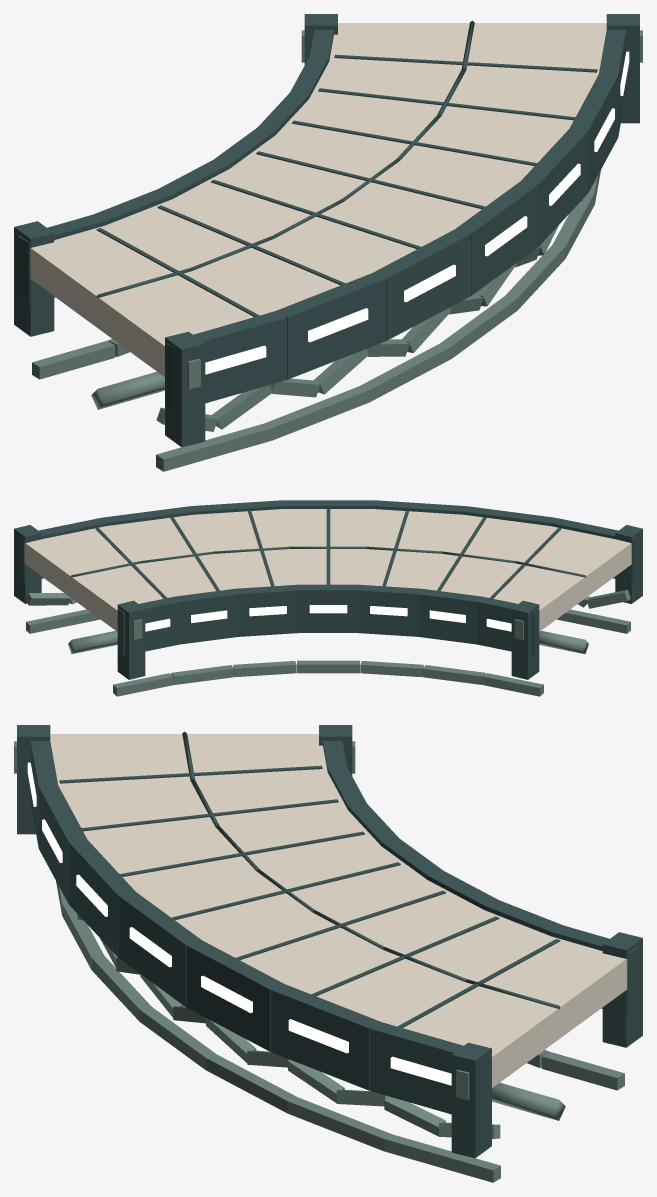
The model's file is Curve_60_lab.glb.
The picture shows the model from 3 angles, top to bottom: view 1: azimuth 30°, elevation 25°; view 2: azimuth 150°, elevation 25°; view 3: azimuth 270°, elevation 25°; orthographic projection. The views are drawn at different scales.
Visible parts, largest first — view 1: Curve_60; view 2: Curve_60; view 3: Curve_60.
Part boxes in pixels (bbox=[...]): Curve_60: bbox=[14, 14, 642, 471]; Curve_60: bbox=[14, 500, 642, 696]; Curve_60: bbox=[14, 725, 642, 1182].
Bounding box in the file's own units: 8.12 × 1.52 × 6.42.
